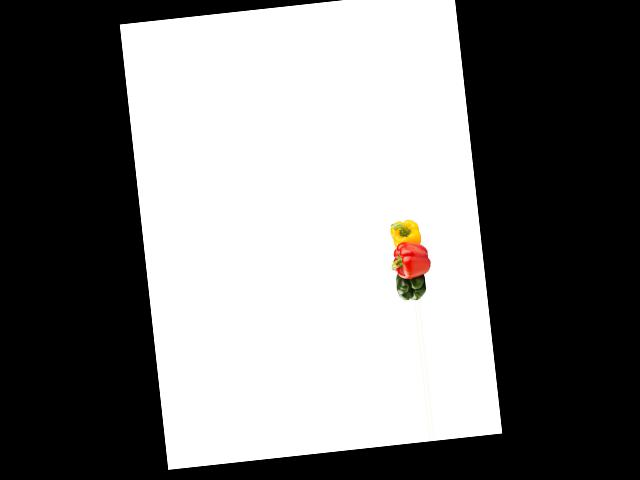bell_pepper: (386, 216, 427, 250)
